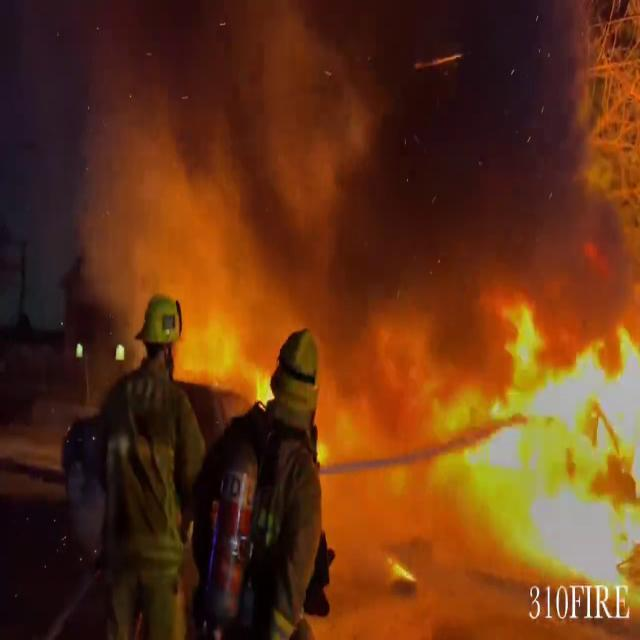Fire: (449, 280, 640, 622)
Smoke: (39, 0, 633, 313)
